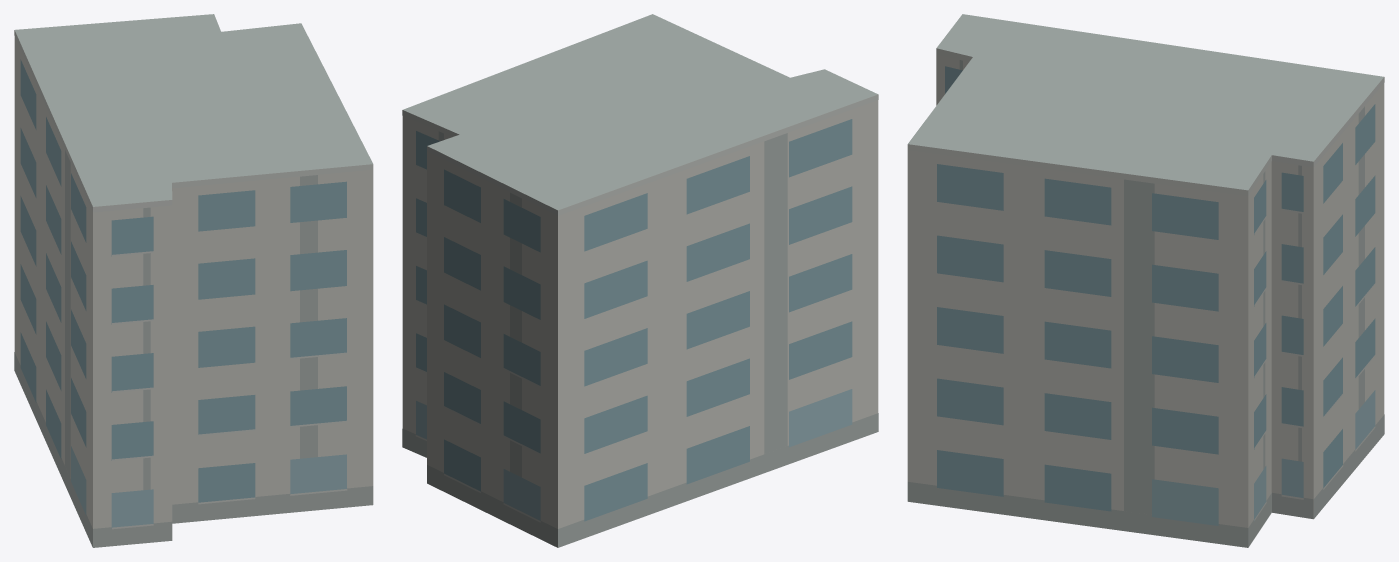
Rendered from survey-upis-32504945.glb.
The picture shows the model from 3 angles, left to right: view 1: azimuth 30°, elevation 25°; view 2: azimuth 150°, elevation 25°; view 3: azimuth 270°, elevation 25°; orthographic projection. The views are drawn at different scales.
Visible parts, largest first — view 1: survey-upis-32504945.tmp; view 2: survey-upis-32504945.tmp; view 3: survey-upis-32504945.tmp.
Part boxes in pixels (bbox=[...]): survey-upis-32504945.tmp: bbox=[14, 14, 373, 547]; survey-upis-32504945.tmp: bbox=[402, 14, 878, 547]; survey-upis-32504945.tmp: bbox=[907, 14, 1384, 547].
Bounding box in the file's own units: 15.35 × 14.5 × 17.53.
